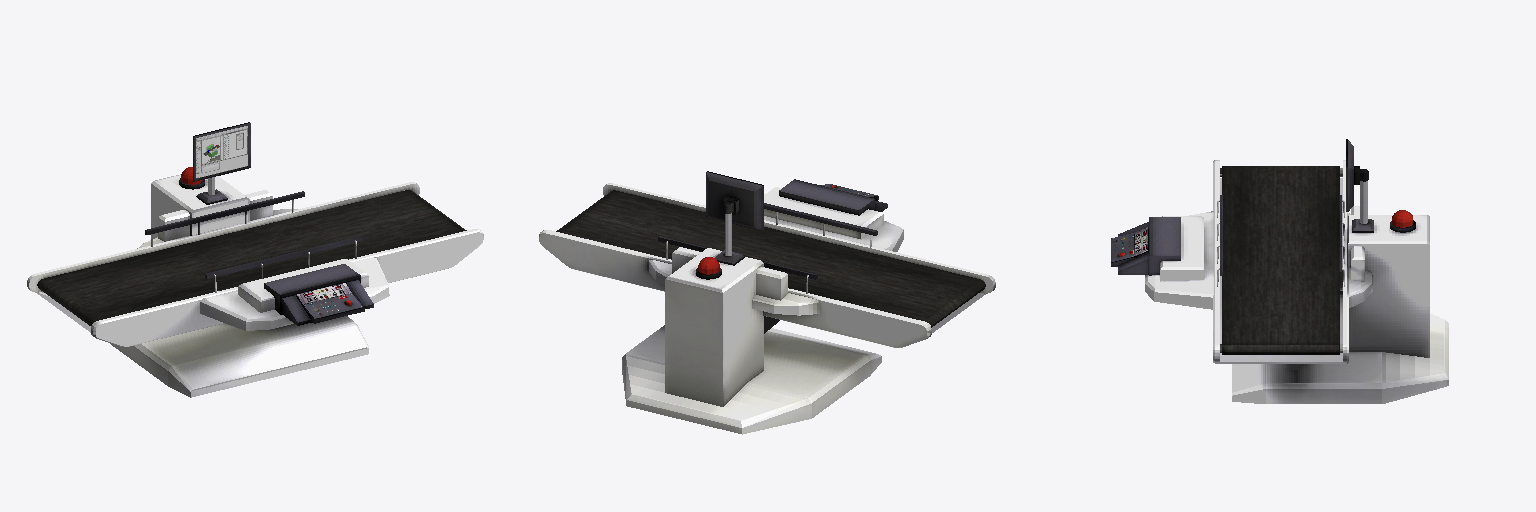
3 renders of one model, left to right at view 1: azimuth 30°, elevation 25°; view 2: azimuth 150°, elevation 25°; view 3: azimuth 270°, elevation 25°, orthographic.
Parts seen in each view (by area): view 1: ColorChang, Everything; view 2: ColorChang, Everything; view 3: ColorChang, Everything.
Boxes of the visible parts, <box> form: ColorChang: <box>27,174,483,397</box>; Everything: <box>37,122,466,325</box>; ColorChang: <box>539,183,995,434</box>; Everything: <box>556,171,985,327</box>; ColorChang: <box>1145,160,1448,403</box>; Everything: <box>1111,139,1415,354</box>.
Bounding box in the file's own units: 4 × 2 × 3.
2 materials, 1 textured.